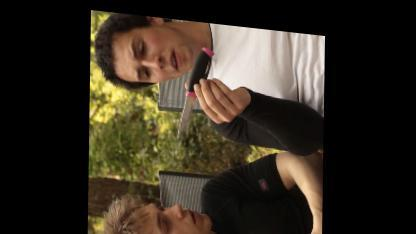knife: (170, 36, 219, 142)
